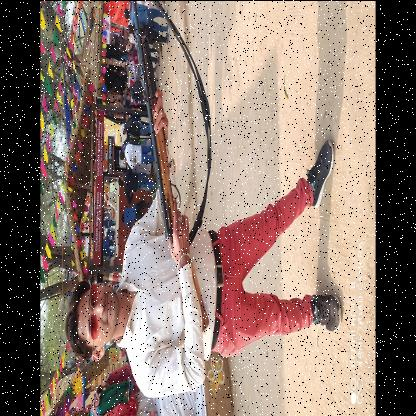rifle: (131, 0, 211, 334)
